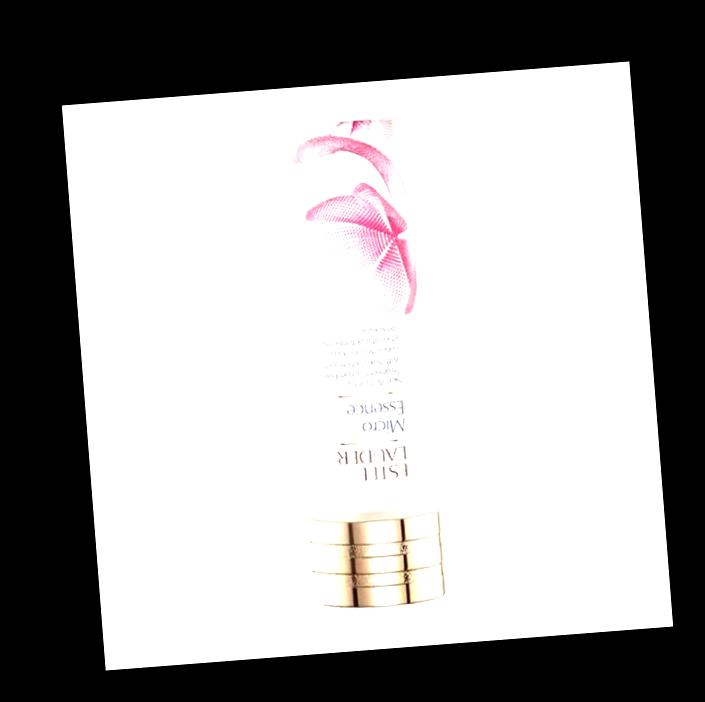cosmetic: (279, 116, 440, 607)
